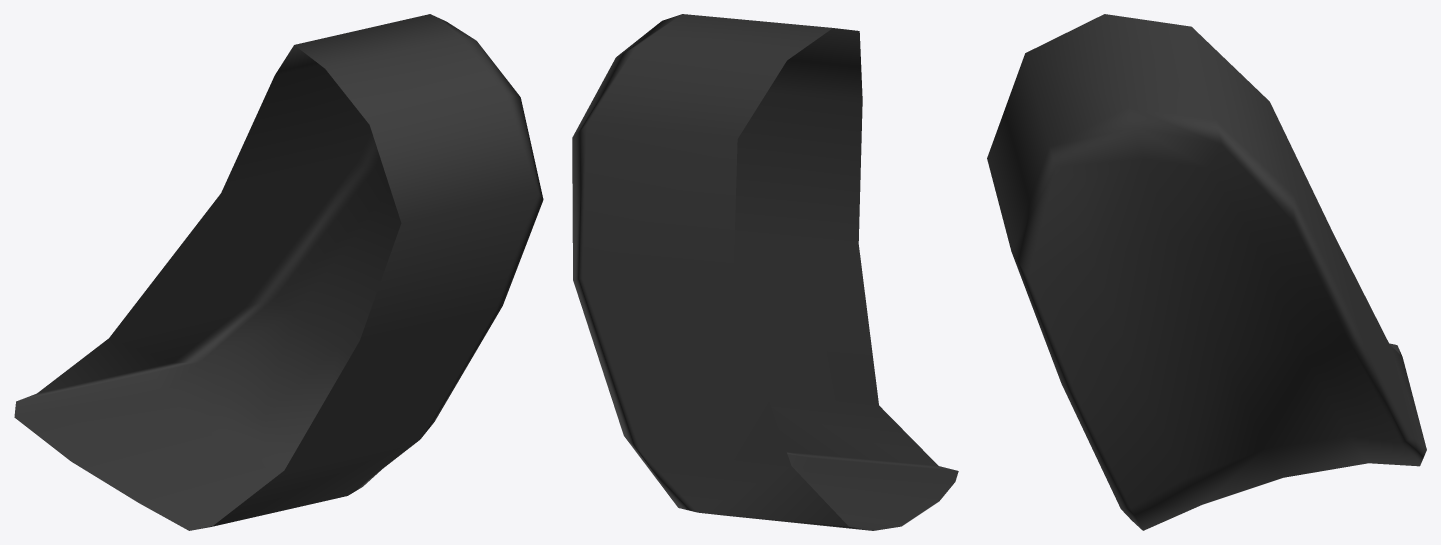
File: crystal_controller_left_button6.obj
The picture shows the model from 3 angles, left to right: view 1: azimuth 30°, elevation 25°; view 2: azimuth 150°, elevation 25°; view 3: azimuth 270°, elevation 25°; orthographic projection. The views are drawn at different scales.
Visible parts, largest first — view 1: crystal_controller_left_button6; view 2: crystal_controller_left_button6; view 3: crystal_controller_left_button6.
Part boxes in pixels (x1,y1,x2,y2): crystal_controller_left_button6: (14,14,543,530); crystal_controller_left_button6: (572,14,958,530); crystal_controller_left_button6: (987,14,1426,530).
Bounding box in the file's own units: 0.0218 × 0.0244 × 0.0199.
1 material, 1 textured.
